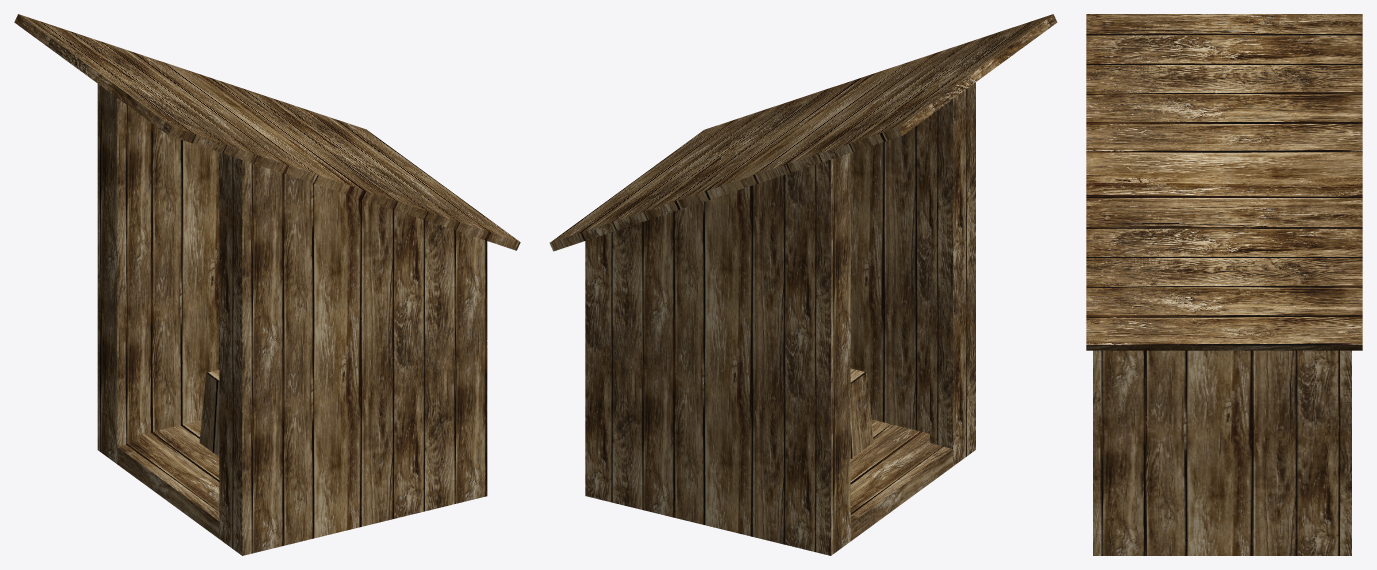
File: toilet01.fbx
3 renders of one model, left to right at view 1: azimuth 30°, elevation 25°; view 2: azimuth 150°, elevation 25°; view 3: azimuth 270°, elevation 25°, orthographic. The views are drawn at different scales.
Parts seen in each view (by area): view 1: Box001; view 2: Box001; view 3: Box001.
Part boxes in pixels (x1,y1,x2,y2): Box001: (14, 14, 520, 555); Box001: (549, 14, 1057, 555); Box001: (1086, 14, 1362, 555).
Bounding box in the file's own units: 82.18 × 100 × 62.35.
Materials: 2 (2 with a texture image).
